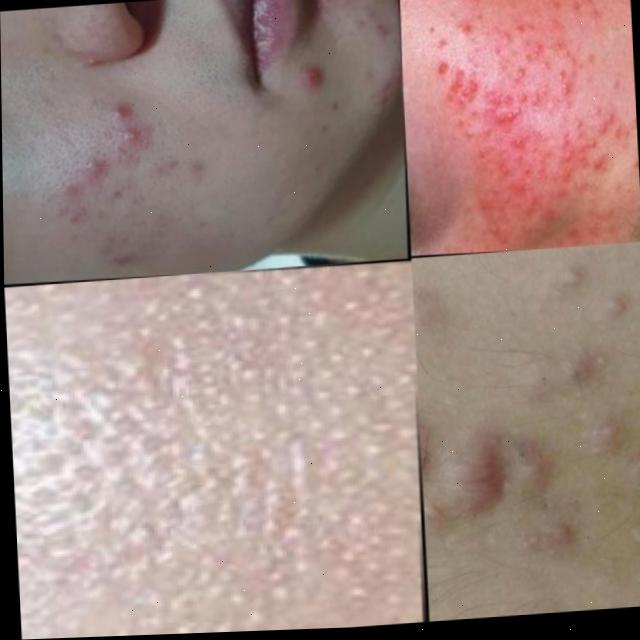Acne: (71, 380, 354, 611), (445, 365, 627, 532), (467, 0, 588, 189), (55, 112, 155, 248), (299, 53, 340, 92)
